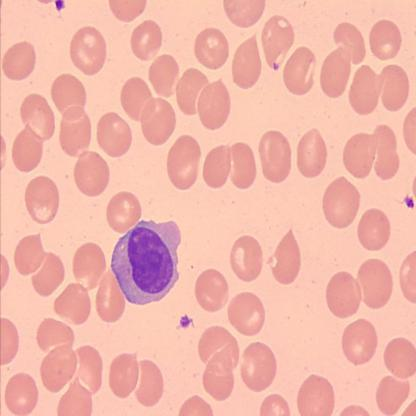Atypical lymphocyte: (112, 220, 182, 304)
